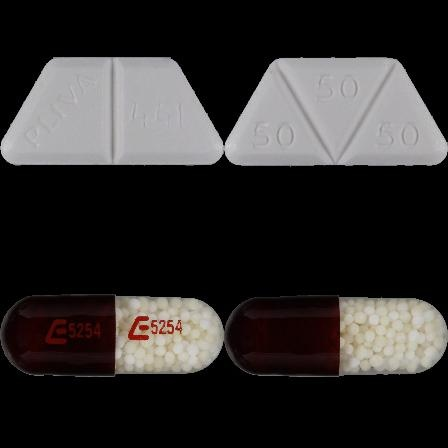33261-386: (0, 0, 224, 224)
